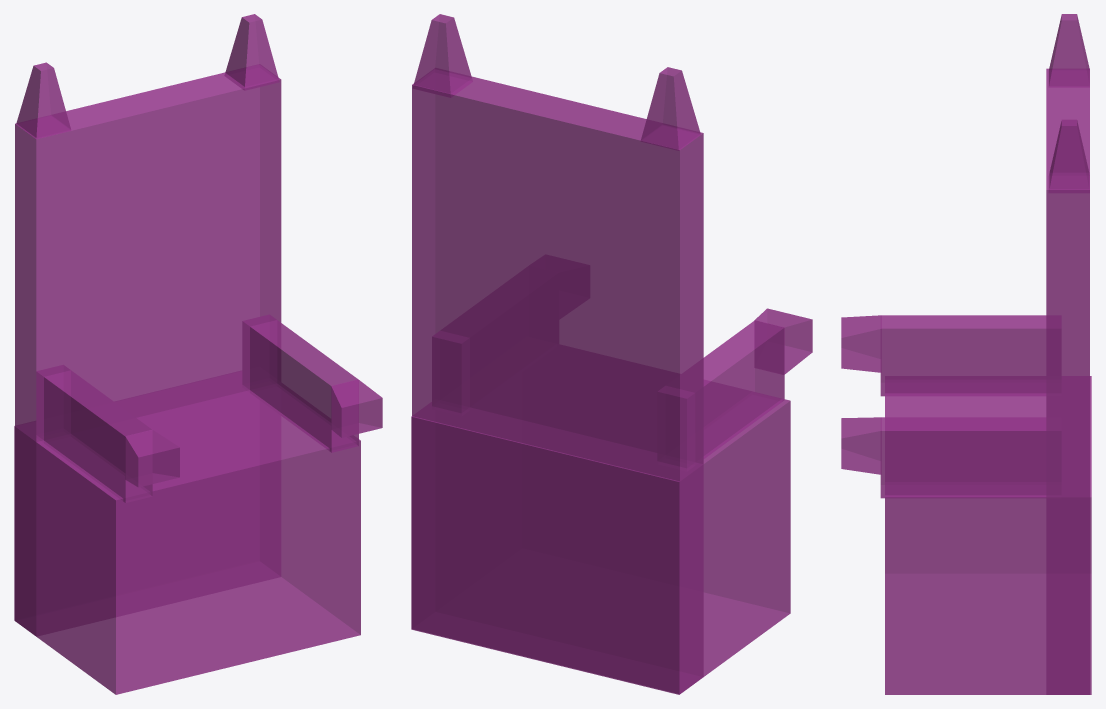
Rendered from SM_Prop_Throne_02_Collision.fbx.
3 renders of one model, left to right at view 1: azimuth 30°, elevation 25°; view 2: azimuth 150°, elevation 25°; view 3: azimuth 270°, elevation 25°, orthographic. The views are drawn at different scales.
Visible parts, largest first — view 1: SM_Prop_Throne_02_Collision; view 2: SM_Prop_Throne_02_Collision; view 3: SM_Prop_Throne_02_Collision.
Boxes of the visible parts, box(x1,y1,x2,y2) form: SM_Prop_Throne_02_Collision: box(14, 14, 382, 694); SM_Prop_Throne_02_Collision: box(411, 14, 812, 694); SM_Prop_Throne_02_Collision: box(841, 14, 1091, 694).
Size of the model in its own units: 68.55 by 149 by 59.56.
